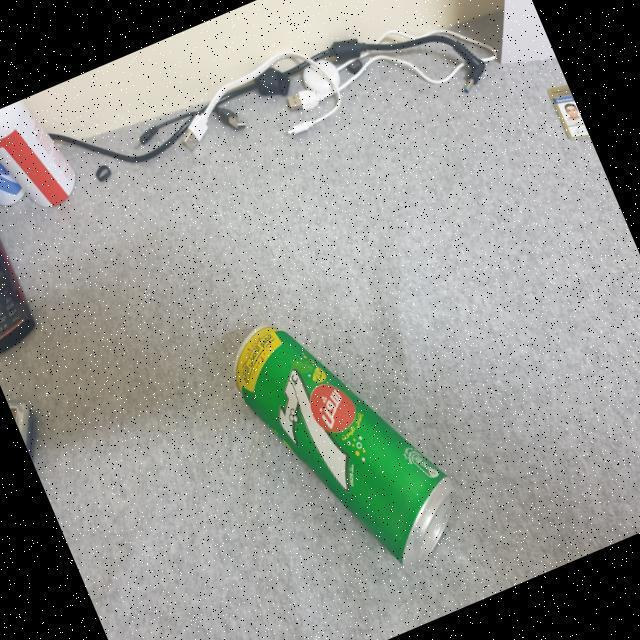can: (204, 263, 491, 619)
